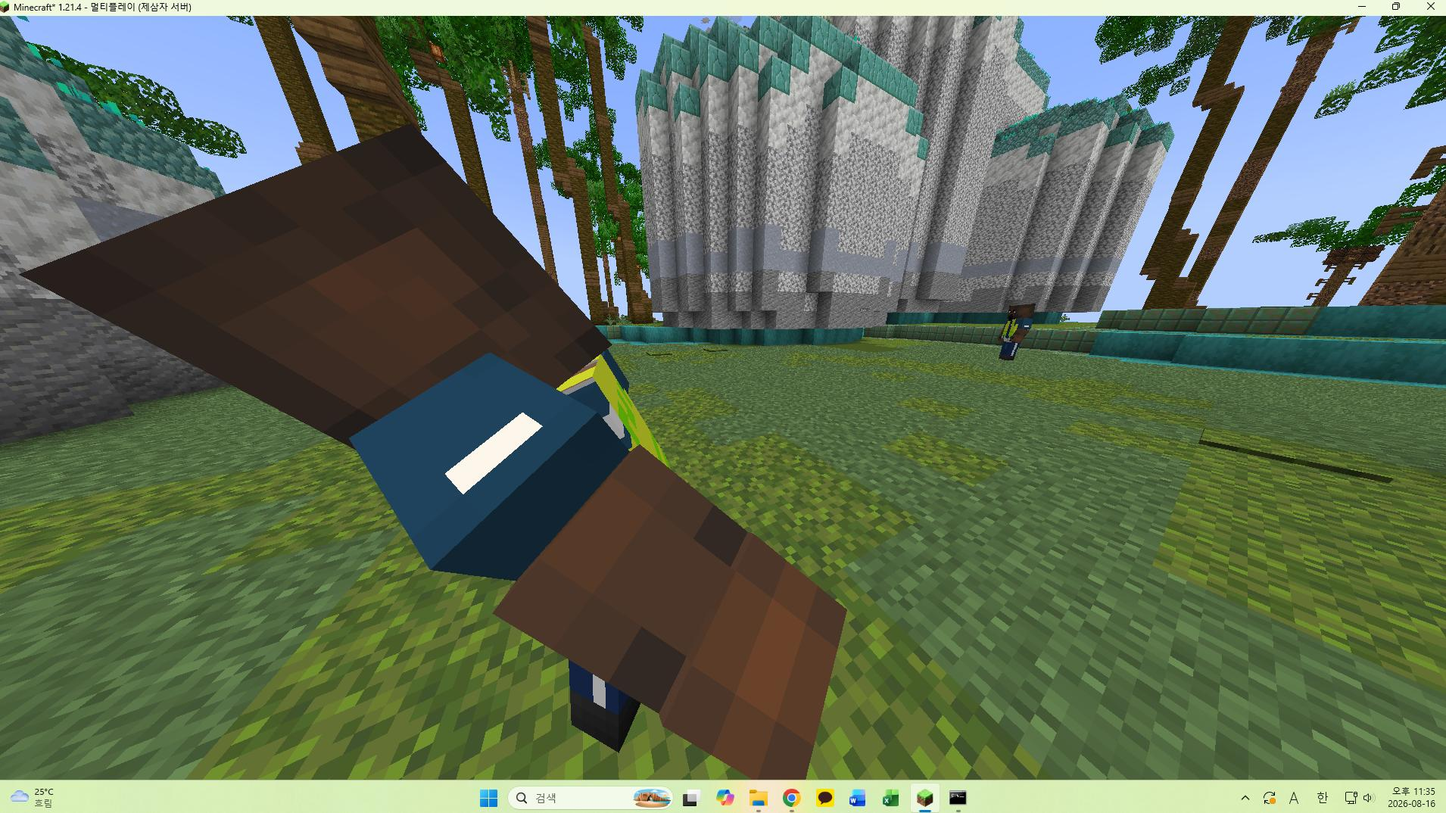Guardian: (26, 126, 844, 777), (997, 303, 1036, 360)
